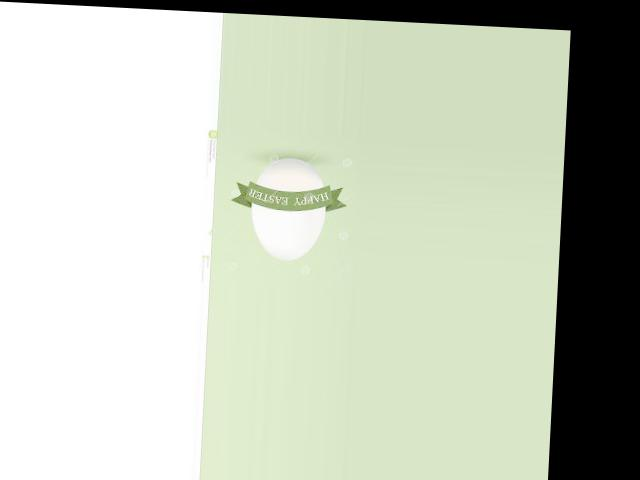egg: (248, 156, 327, 261)
